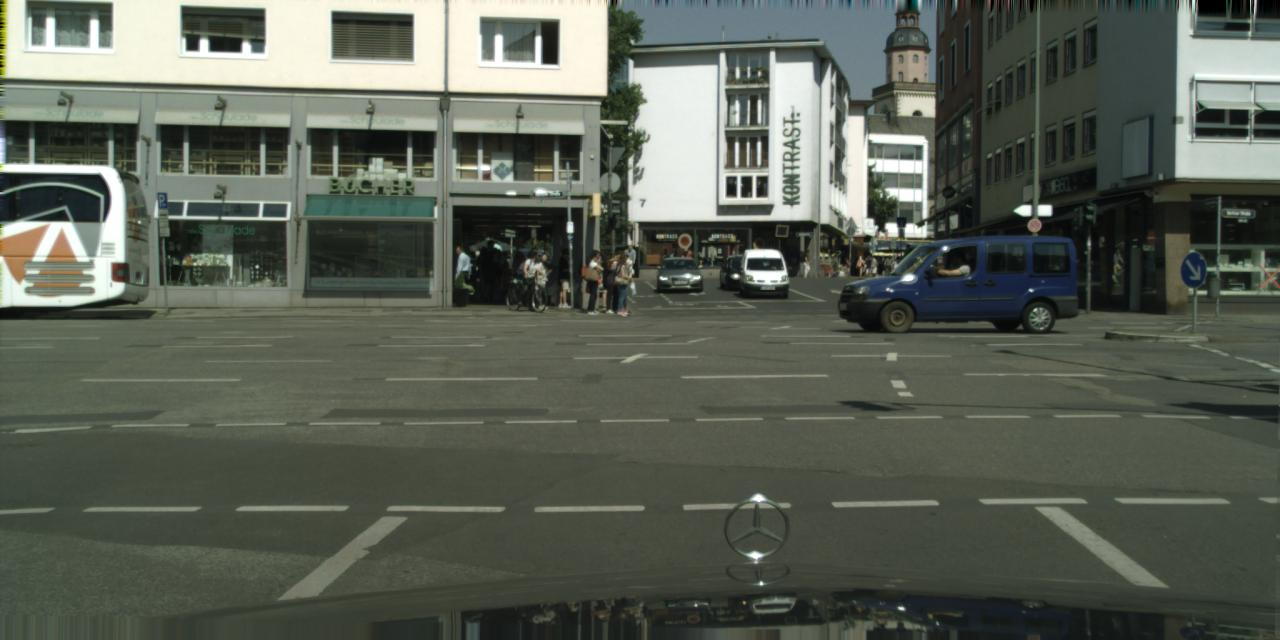ped: (582, 250, 637, 318), (472, 240, 526, 305), (552, 248, 577, 308), (449, 246, 472, 302), (856, 254, 878, 277), (903, 243, 916, 275), (622, 244, 634, 275), (800, 248, 811, 278), (882, 256, 898, 274), (668, 252, 675, 270), (682, 247, 691, 257)
